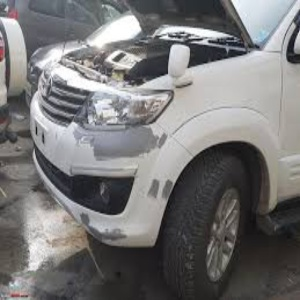bumper_scratch: (73, 128, 176, 246)
